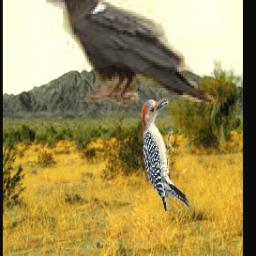Crow: (47, 0, 218, 109)
Woodpecker: (135, 95, 191, 212)
